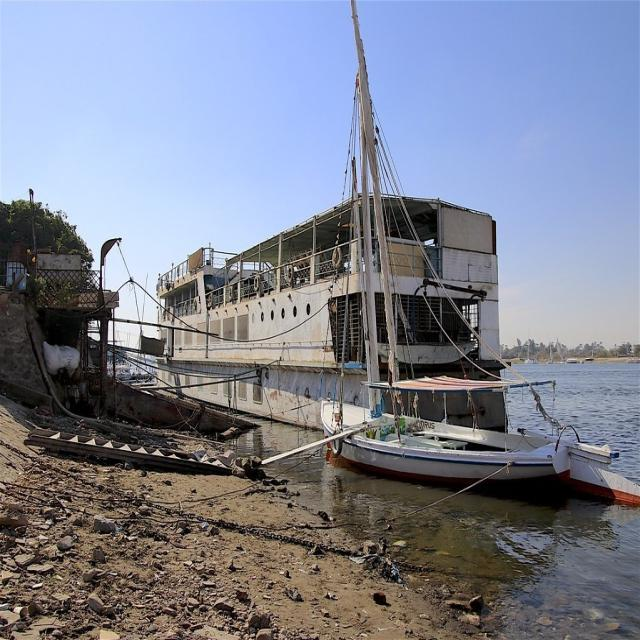boat: (149, 193, 512, 435), (326, 405, 570, 493)
